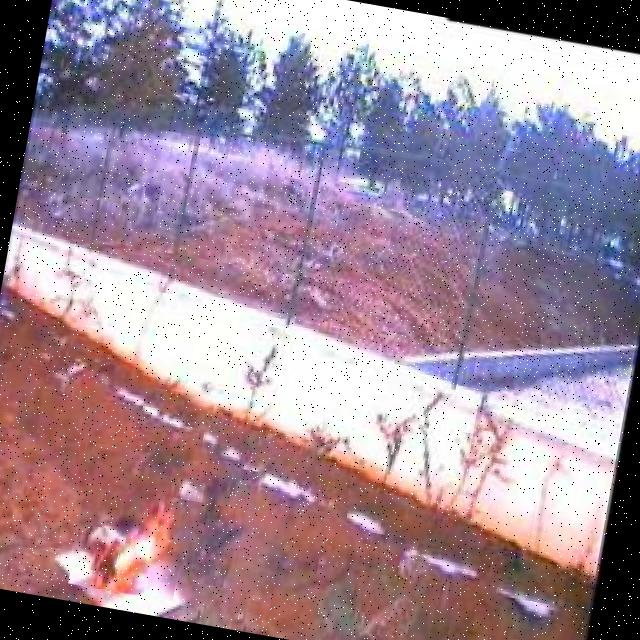fire: (68, 486, 188, 602)
